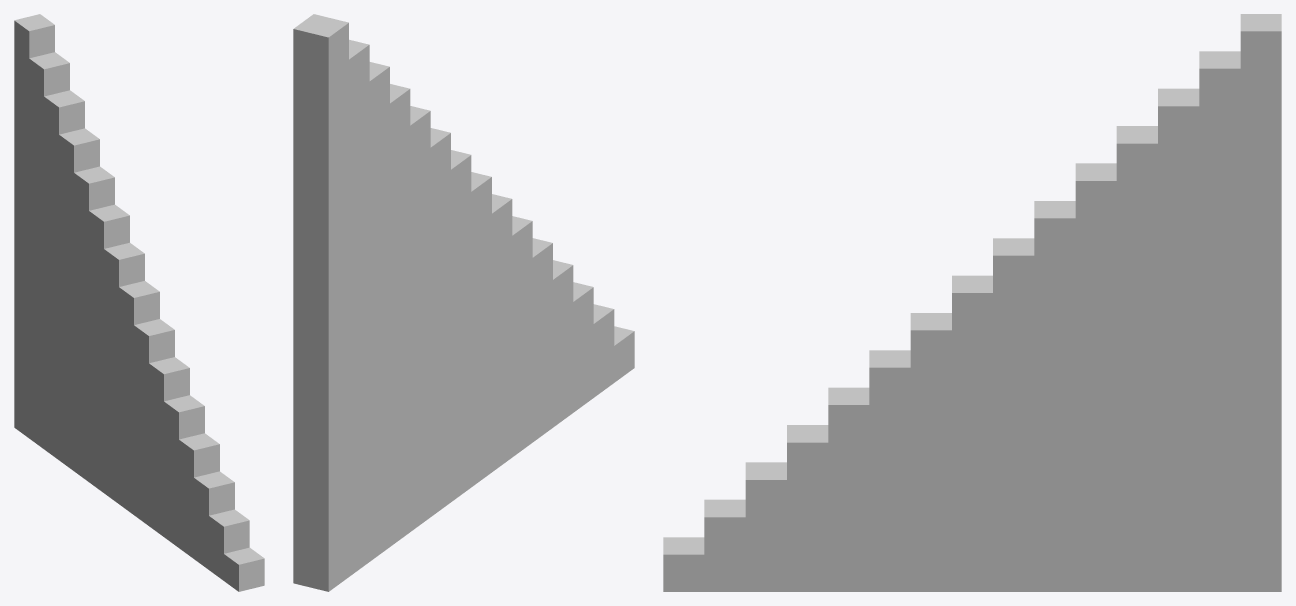
Rendered from ConstructionMaterials-14.obj.
The picture shows the model from 3 angles, left to right: view 1: azimuth 30°, elevation 25°; view 2: azimuth 150°, elevation 25°; view 3: azimuth 270°, elevation 25°; orthographic projection. The views are drawn at different scales.
Bounding box in the file's own units: 0.1 × 1.5 × 1.5.
1 material, 1 textured.
